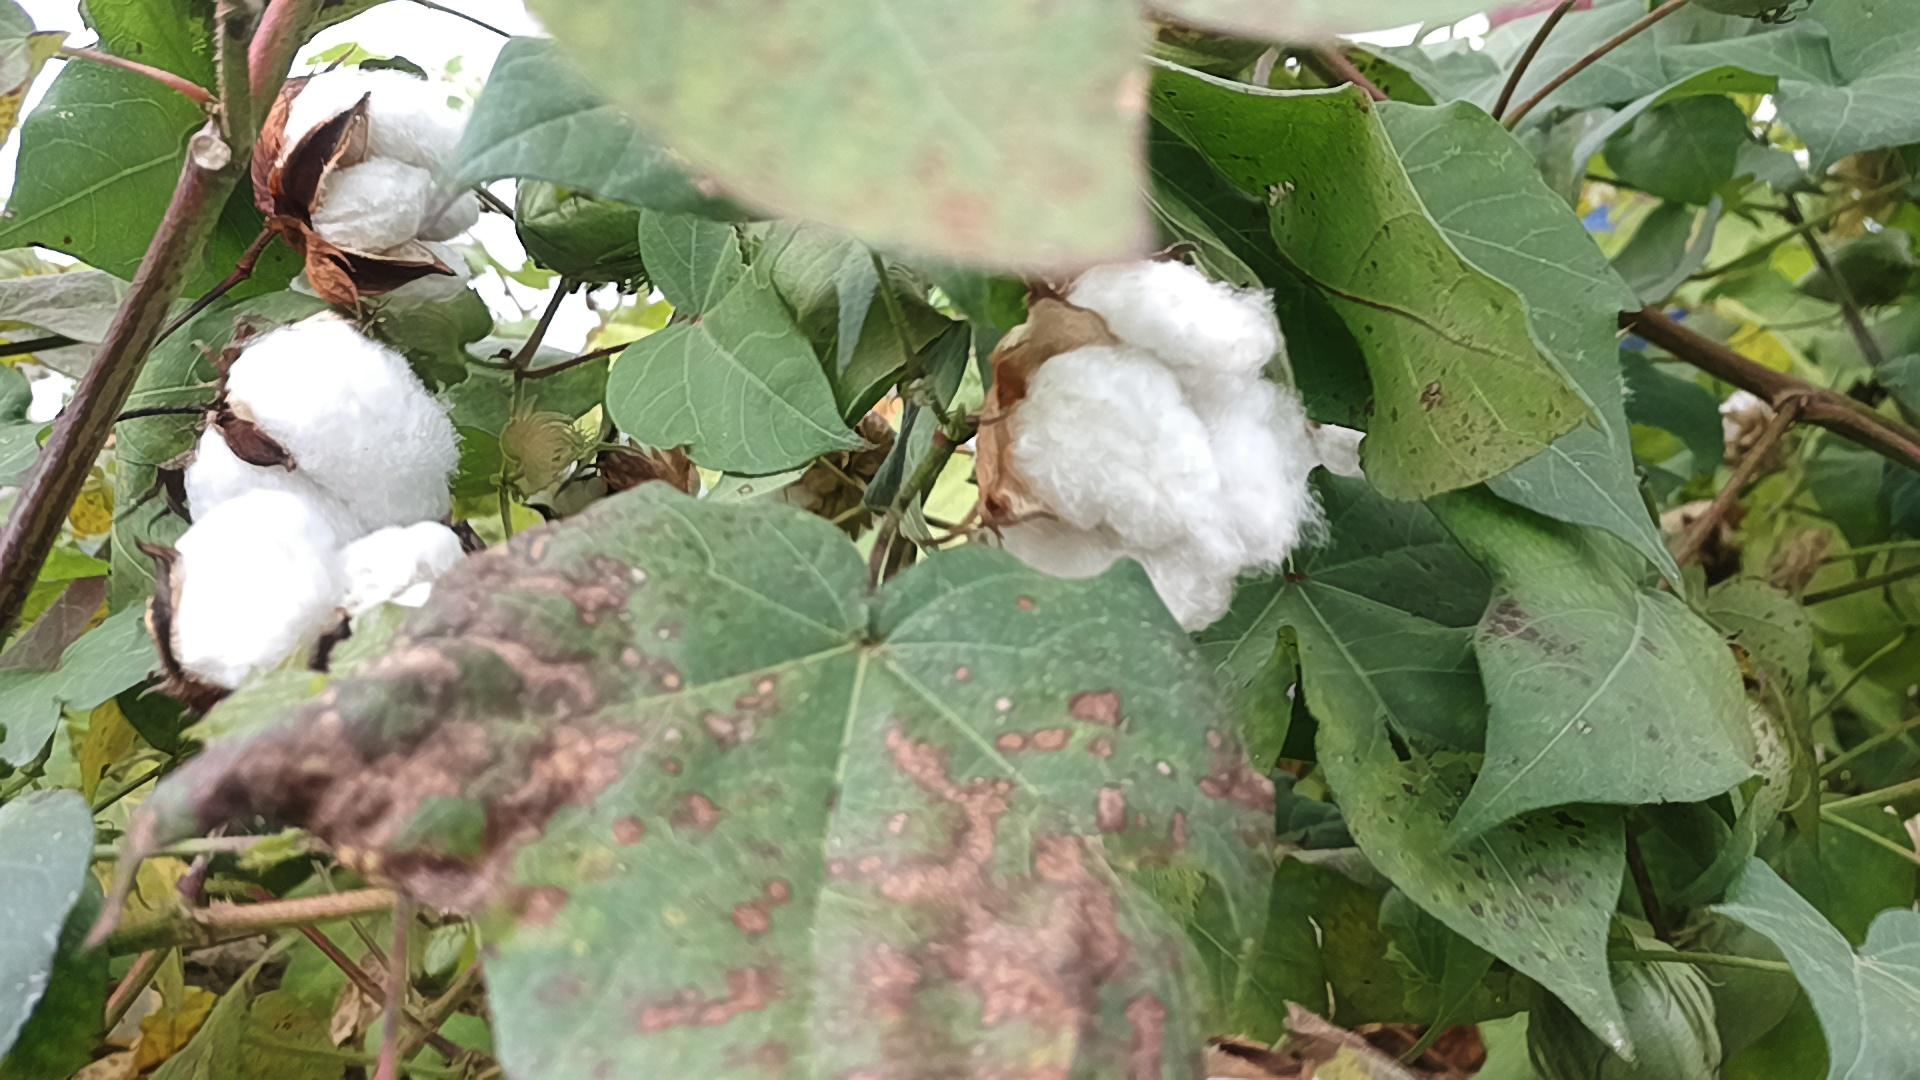cotton_ready: (998, 258, 1313, 633), (174, 488, 476, 691), (190, 315, 459, 525), (287, 66, 483, 251)
